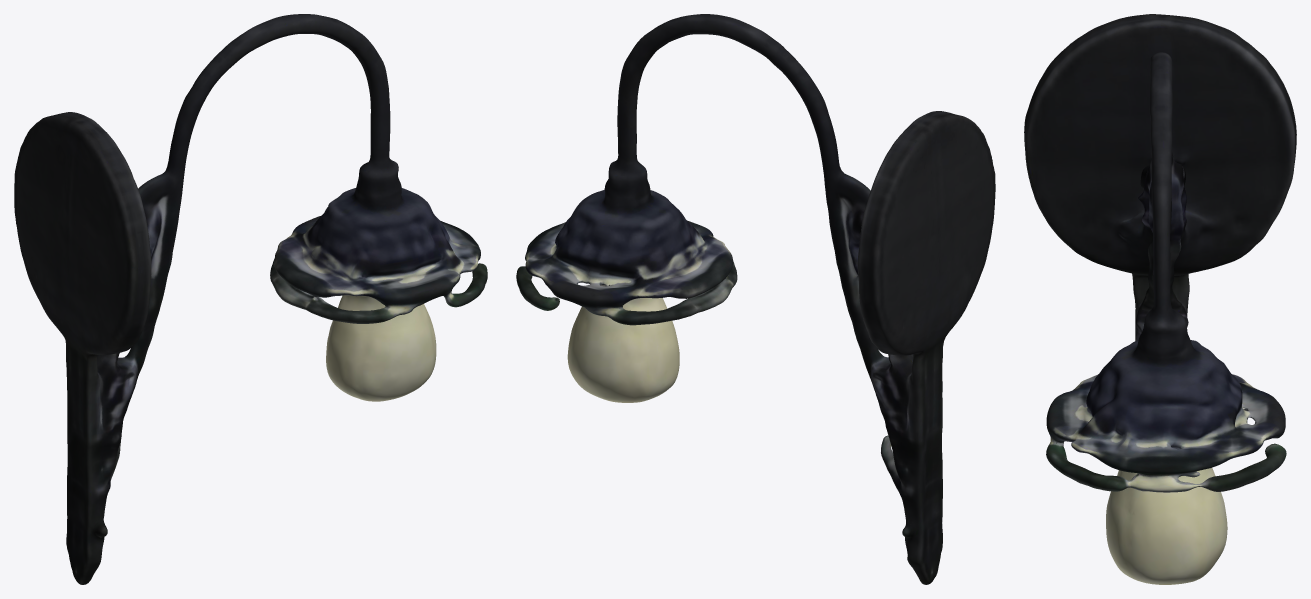
The model's file is 100db14d4f78_wall_lamp__3d_asset.fbx.
The picture shows the model from 3 angles, left to right: view 1: azimuth 30°, elevation 25°; view 2: azimuth 150°, elevation 25°; view 3: azimuth 270°, elevation 25°; orthographic projection. The views are drawn at different scales.
Parts seen in each view (by area): view 1: high_poly; view 2: high_poly; view 3: high_poly.
Part boxes in pixels (left/top/right/bottom): high_poly: left=14, top=14, right=487, bottom=584; high_poly: left=516, top=14, right=995, bottom=584; high_poly: left=1024, top=14, right=1296, bottom=584.
Bounding box in the file's own units: 81.28 × 100 × 41.84.
